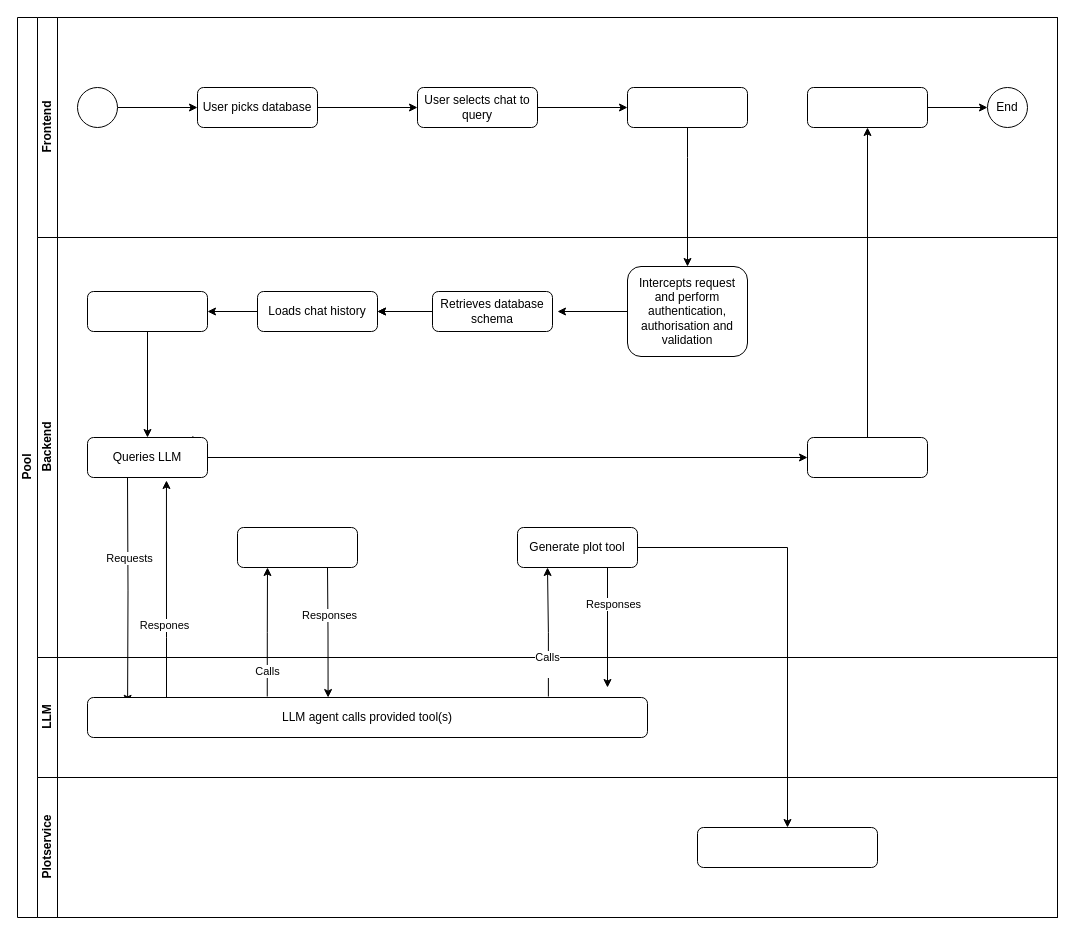
This 1075x935 diagram has some shape labels left out. The centre of each missing label's shape, as x and y in pixels:
Build and execute generated Python script: the point at 787,847
Builds LLM request: the point at 147,311
Presents response: the point at 867,107
Query database tool: the point at 297,547
Sends response to frontend: the point at 867,457
start: the point at 97,107
User submits query: the point at 687,107
